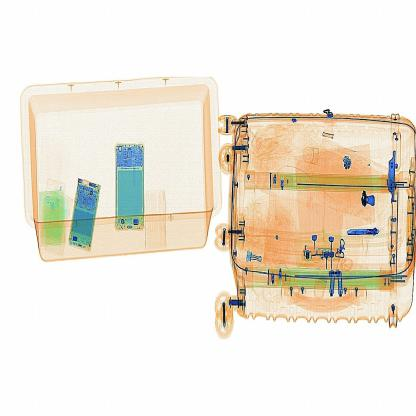wrench: (356, 187, 381, 214)
